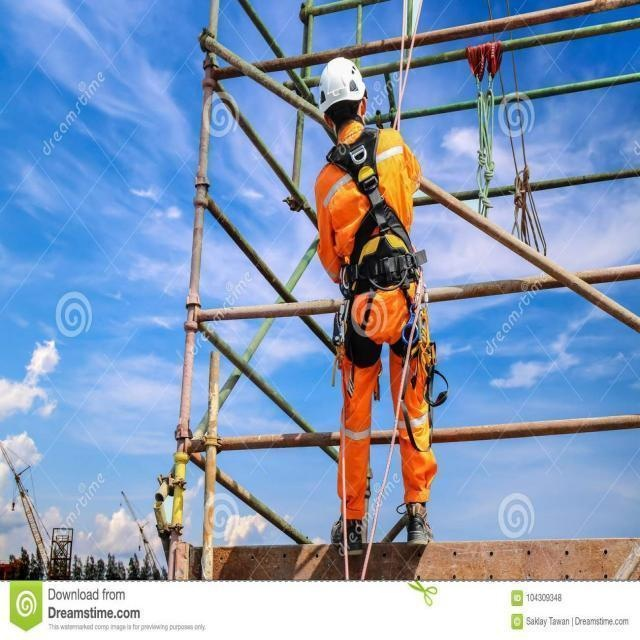Arnes_seguridad: (315, 130, 435, 389)
